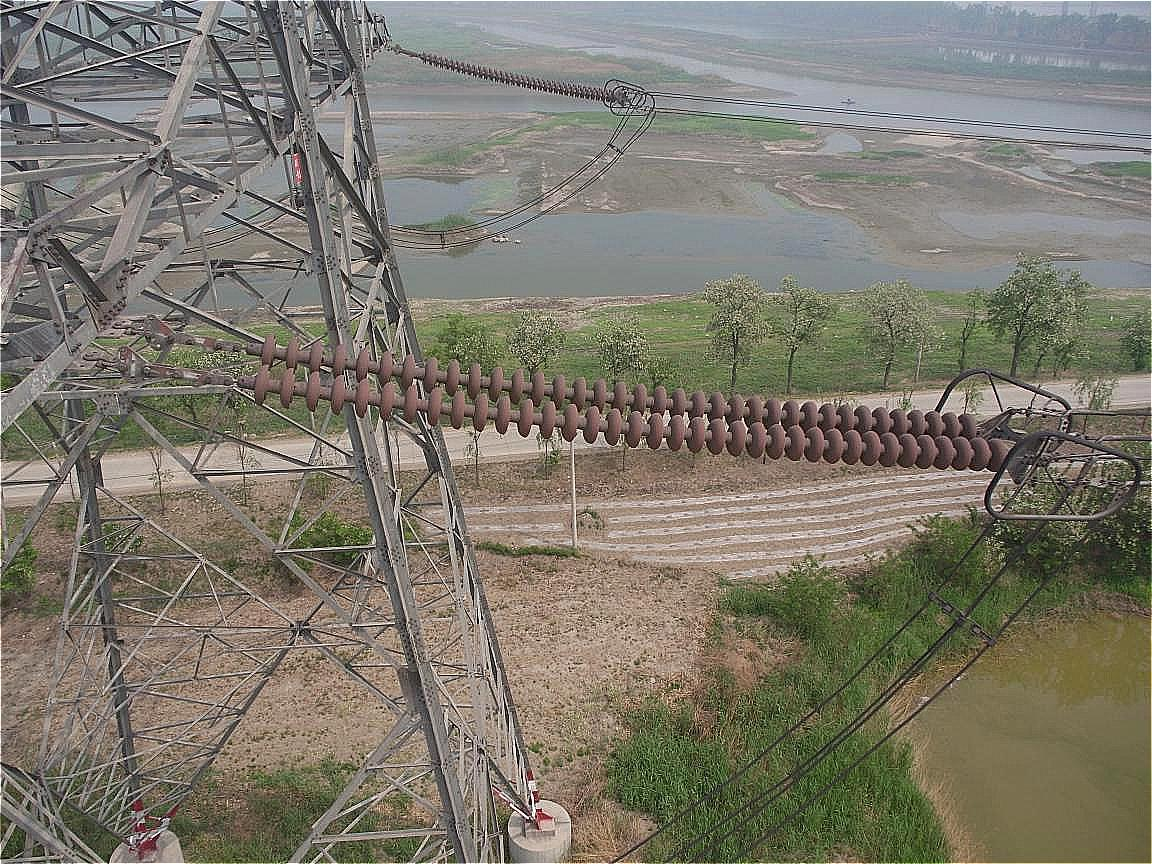insultor1: (227, 310, 1035, 487)
